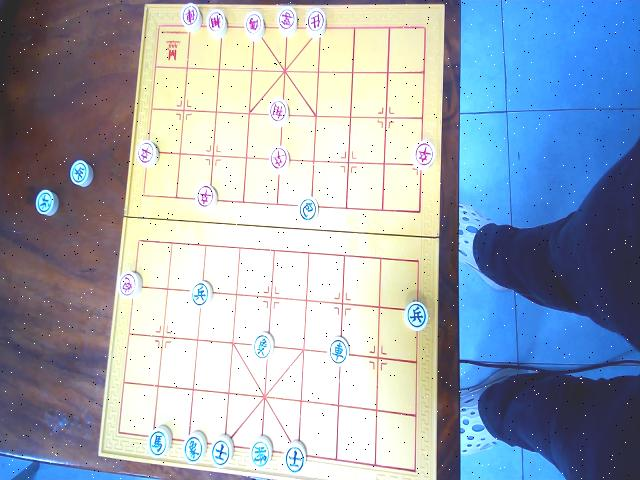piece: (34, 189, 64, 224), (147, 425, 173, 459), (210, 434, 233, 468), (183, 431, 206, 464), (284, 441, 306, 475), (250, 436, 272, 469), (412, 140, 435, 170), (404, 301, 427, 331), (117, 271, 142, 298), (206, 9, 227, 39), (277, 6, 297, 37), (306, 8, 326, 39), (268, 98, 289, 127), (328, 336, 349, 365), (181, 3, 201, 33), (190, 280, 212, 307), (136, 140, 158, 167), (195, 184, 217, 211), (245, 11, 264, 41), (253, 332, 274, 359), (269, 146, 289, 174), (36, 190, 58, 215), (298, 196, 318, 222)
